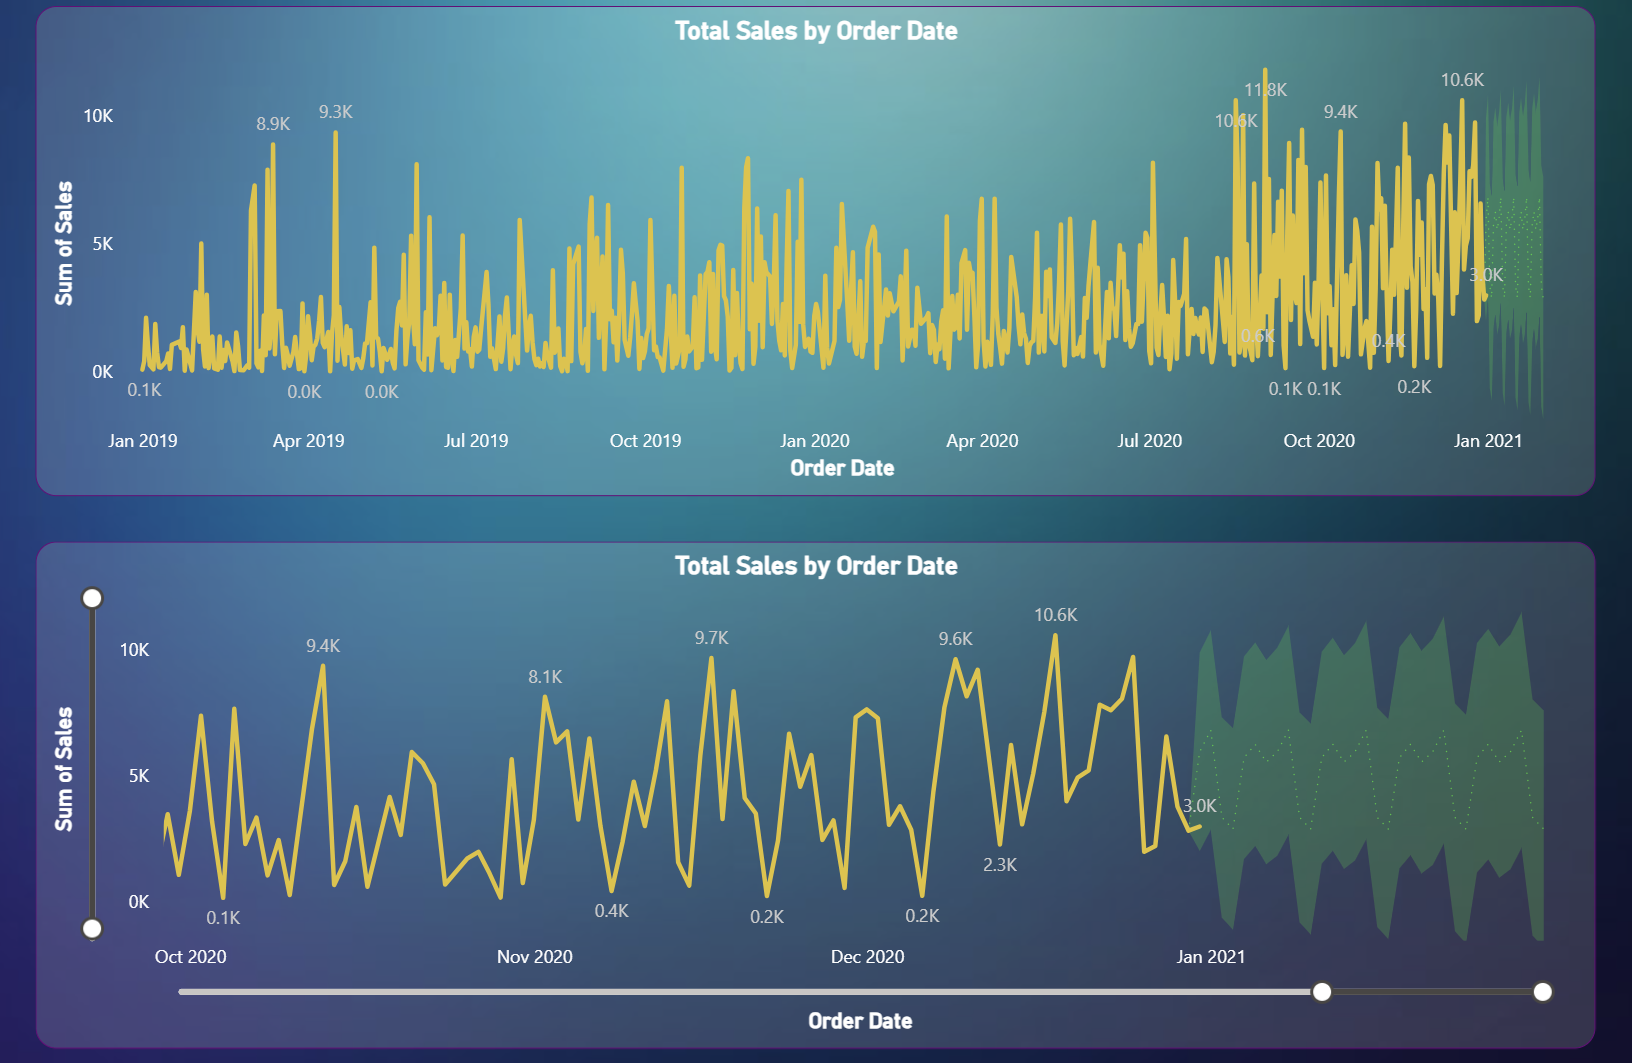

The dashboard page shown, as its layout file describes it:
{"tool":"powerbi","page":{"name":"Sales_Forecasting","canvas":[1280,720],"ordinal":1},"visuals":[{"type":"lineChart","title":"Total Sales by Order Date","fields":{"Y":["Sum(SuperStore_Sales_Dataset.Sales)"],"Category":["SuperStore_Sales_Dataset.Order Date"]},"box":[107.5,368.8,1046.2,340],"z":0},{"type":"lineChart","title":"Total Sales by Order Date","fields":{"Y":["Sum(SuperStore_Sales_Dataset.Sales)"],"Category":["SuperStore_Sales_Dataset.Order Date"]},"box":[107.5,10,1046.2,328.8],"z":1000}]}

Visuals, with their boxes on the page's 1280x720 design canvas (x1, y1, x2, y2). These are canvas units, not pixel positions in the 1632x1063 screenshot, which may show the page scaled, cropped or inside an application window:
"Total Sales by Order Date" lineChart: <region>108, 369, 1154, 709</region>
"Total Sales by Order Date" lineChart: <region>108, 10, 1154, 339</region>
